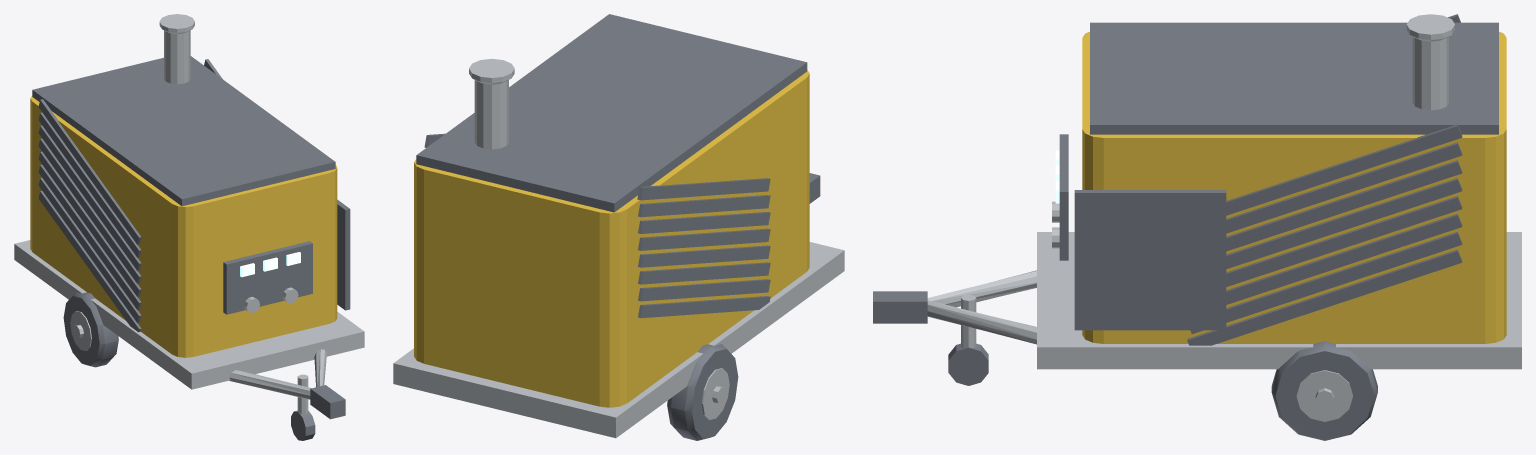
Rendered from ufo-crash-site-and-recovery-facility-generator-trailer-d065a2a6__17351.glb.
3 views of the same model, side by side, from view 1: azimuth 30°, elevation 25°; view 2: azimuth 150°, elevation 25°; view 3: azimuth 270°, elevation 25° (orthographic). The views are drawn at different scales.
Parts seen in each view (by area): view 1: generator-trailer, wheel-left (×2), door; view 2: generator-trailer, wheel-left (×2); view 3: generator-trailer, door, wheel-right (×2).
Part boxes in pixels (bbox=[...]): generator-trailer: bbox=[14, 14, 364, 440]; wheel-left (×2): bbox=[63, 292, 118, 367]; door: bbox=[337, 199, 350, 310]; generator-trailer: bbox=[393, 14, 844, 438]; wheel-left (×2): bbox=[667, 344, 738, 440]; generator-trailer: bbox=[873, 14, 1521, 385]; door: bbox=[1074, 190, 1226, 330]; wheel-right (×2): bbox=[1271, 341, 1377, 440].
Bounding box in the file's own units: 2 × 2.82 × 4.28.
